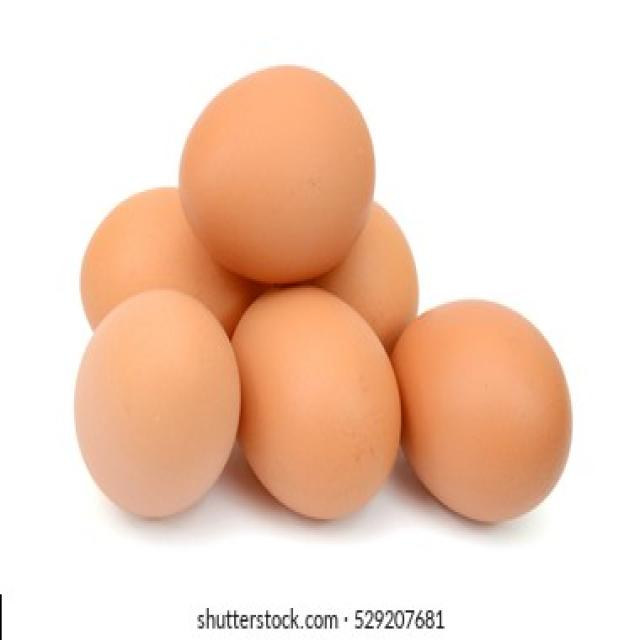Brown Egg: (160, 60, 375, 278), (227, 268, 403, 519), (66, 288, 243, 532), (400, 290, 578, 528), (74, 180, 244, 332), (317, 204, 420, 358)
